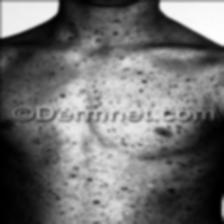Non-Cancerous Skin Condition: (8, 127, 223, 224), (0, 42, 224, 102), (65, 0, 146, 39)
